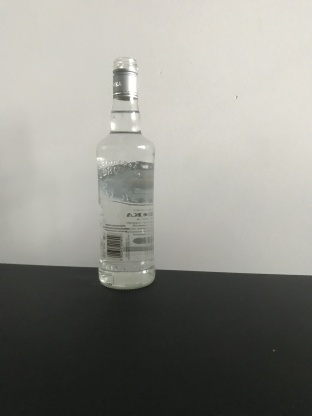nakretka: (110, 53, 140, 101)
